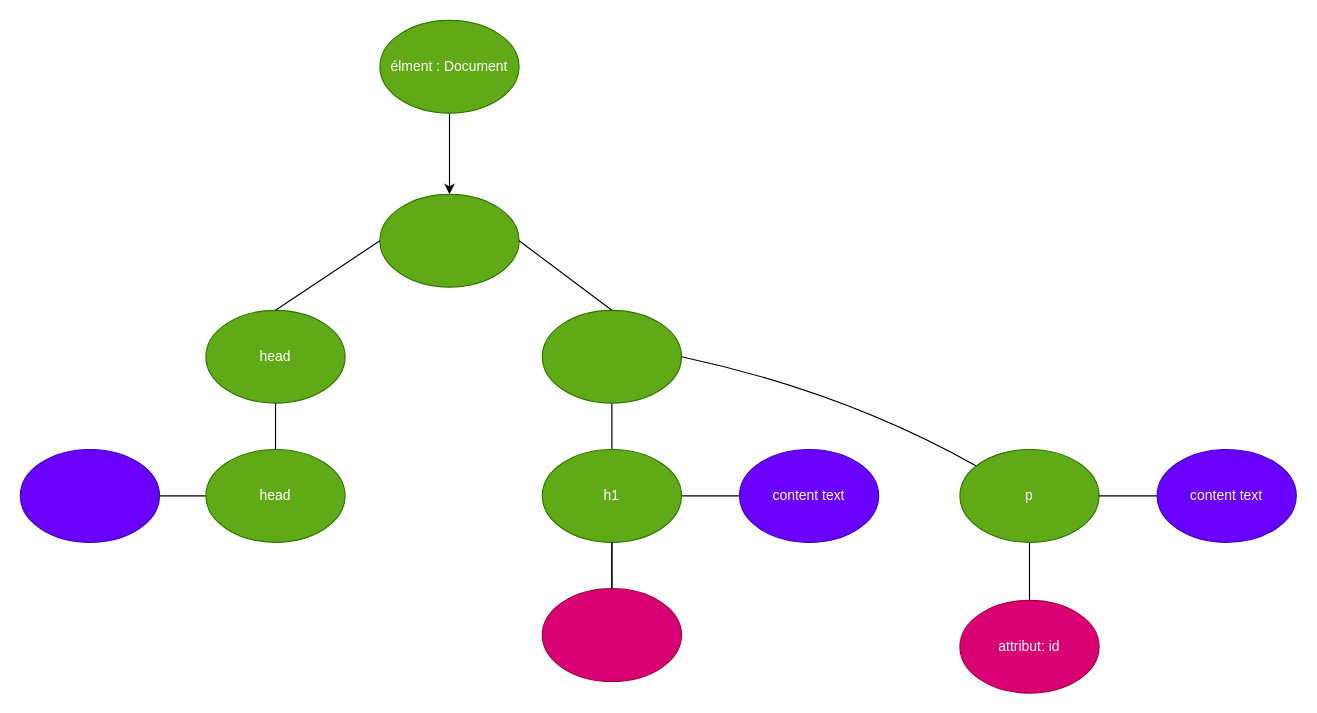
Some shapes in this 1317 by 713 pixel diagram are drawn without their labels. Each missing label, with the centre of its shape:
"attribut :class" goes at (611,635).
"body" goes at (611,356).
"contenu : text" goes at (89,495).
"HTML" goes at (449,240).
